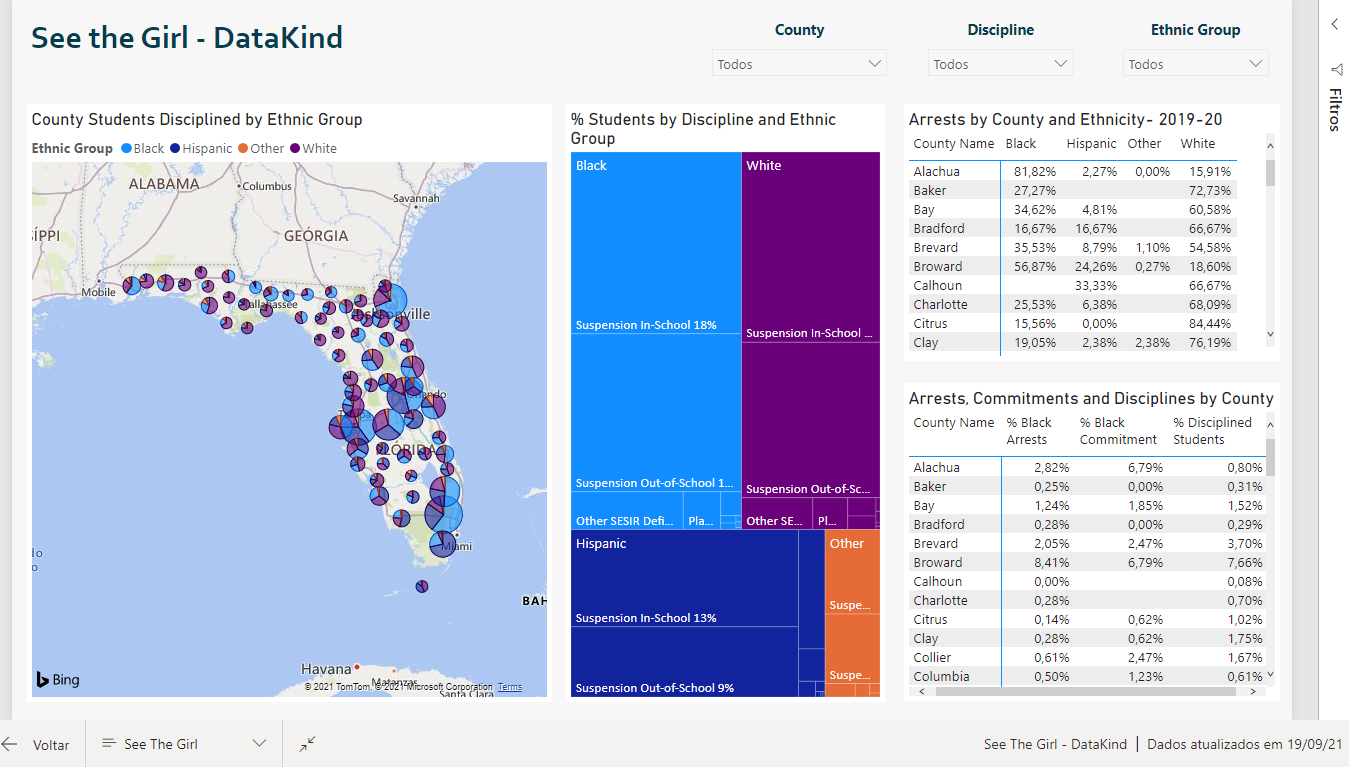

The dashboard page shown, as its layout file describes it:
{"tool":"powerbi","page":{"name":"See The Girl","canvas":[1280,720],"ordinal":0},"visuals":[{"type":"slicer","title":"Discipline","fields":{"Values":["Discipline.Discipline Description"]},"box":[906,14.2,166.2,69.6],"z":0},{"type":"slicer","title":"County","fields":{"Values":["County.County Name"]},"box":[690.2,14.2,196,65.3],"z":1000},{"type":"textbox","box":[14.2,12.8,400.5,51.1],"z":2000},{"type":"treemap","title":"% Students by Discipline and Ethnic Group","fields":{"Group":["Ethnic Group.Ethnic Group"],"Values":["District  Ethnicity and Discipline.County Students"],"Details":["Discipline.Discipline Description"]},"box":[553.8,103.7,319.5,597.9],"z":3000},{"type":"pivotTable","title":"Arrests by County and Ethnicity- 2019-20","fields":{"Rows":["County.County Name"],"Columns":["Ethnic Group.Ethnic Group"],"Values":["Sum(Arrests 2020.Arrests/Youth )"]},"box":[891.8,103.7,376.3,257],"z":4000},{"type":"slicer","title":"Ethnic Group","fields":{"Values":["Ethnic Group.Ethnic Group"]},"box":[1100.6,14.2,166.2,69.6],"z":5000},{"type":"map","title":"County Students Disciplined by Ethnic Group","fields":{"Size":["District  Ethnicity and Discipline.County Students"],"X":["County.Longitude"],"Y":["County.Latitude"],"Series":["Ethnic Group.Ethnic Group"]},"box":[15.1,104.1,525.8,598],"z":6000},{"type":"pivotTable","title":"Arrests, Commitments and Disciplines by County 2018-19","fields":{"Rows":["County.County Name"],"Values":["Sum(Arrests 2018-2019.Black Arrests)","Sum(Arrests 2018-2019.Black Commitment)","District  Ethnicity and Discipline.County Students"]},"box":[891.8,383.4,376.3,318.1],"z":7000}]}

Visuals, with their boxes on the page's 1280x720 design canvas (x1, y1, x2, y2). These are canvas units, not pixel positions in the 1349x767 screenshot, which may show the page scaled, cropped or inside an application window:
"Discipline" slicer: {"left": 906, "top": 14, "right": 1072, "bottom": 84}
"County" slicer: {"left": 690, "top": 14, "right": 886, "bottom": 80}
textbox: {"left": 14, "top": 13, "right": 415, "bottom": 64}
"% Students by Discipline and Ethnic Group" treemap: {"left": 554, "top": 104, "right": 873, "bottom": 702}
"Arrests by County and Ethnicity- 2019-20" pivotTable: {"left": 892, "top": 104, "right": 1268, "bottom": 361}
"Ethnic Group" slicer: {"left": 1101, "top": 14, "right": 1267, "bottom": 84}
"County Students Disciplined by Ethnic Group" map: {"left": 15, "top": 104, "right": 541, "bottom": 702}
"Arrests, Commitments and Disciplines by County 2018-19" pivotTable: {"left": 892, "top": 383, "right": 1268, "bottom": 702}
